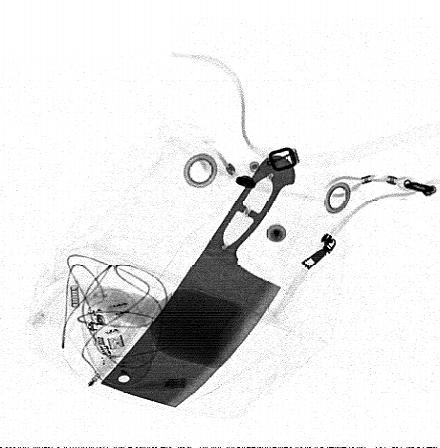Knife: (96, 152, 297, 411)
